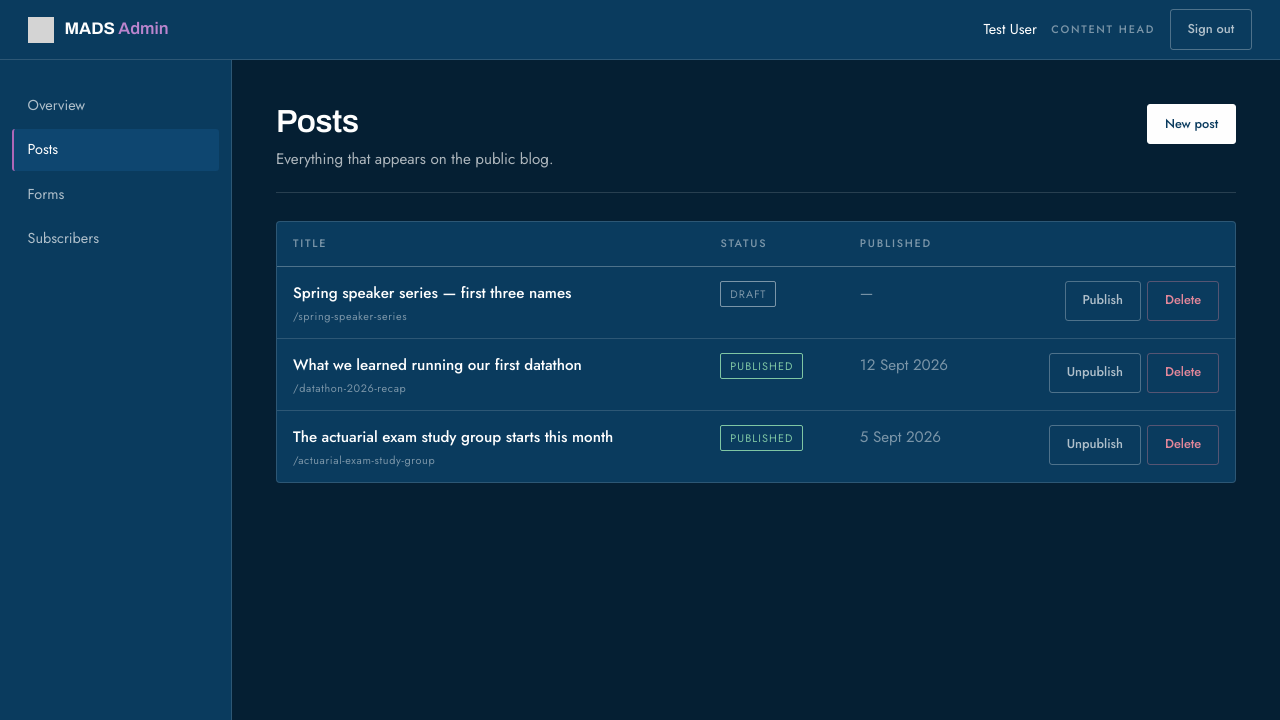
Posts › lets a publisher take a post down
Check: the text "published" next to "12 Sept 2026" is shown, box [730,358,794,374]
Click the button "Unpublish" in the row of "datathon-2026-recap": (1095, 373) [1049,353,1141,393]
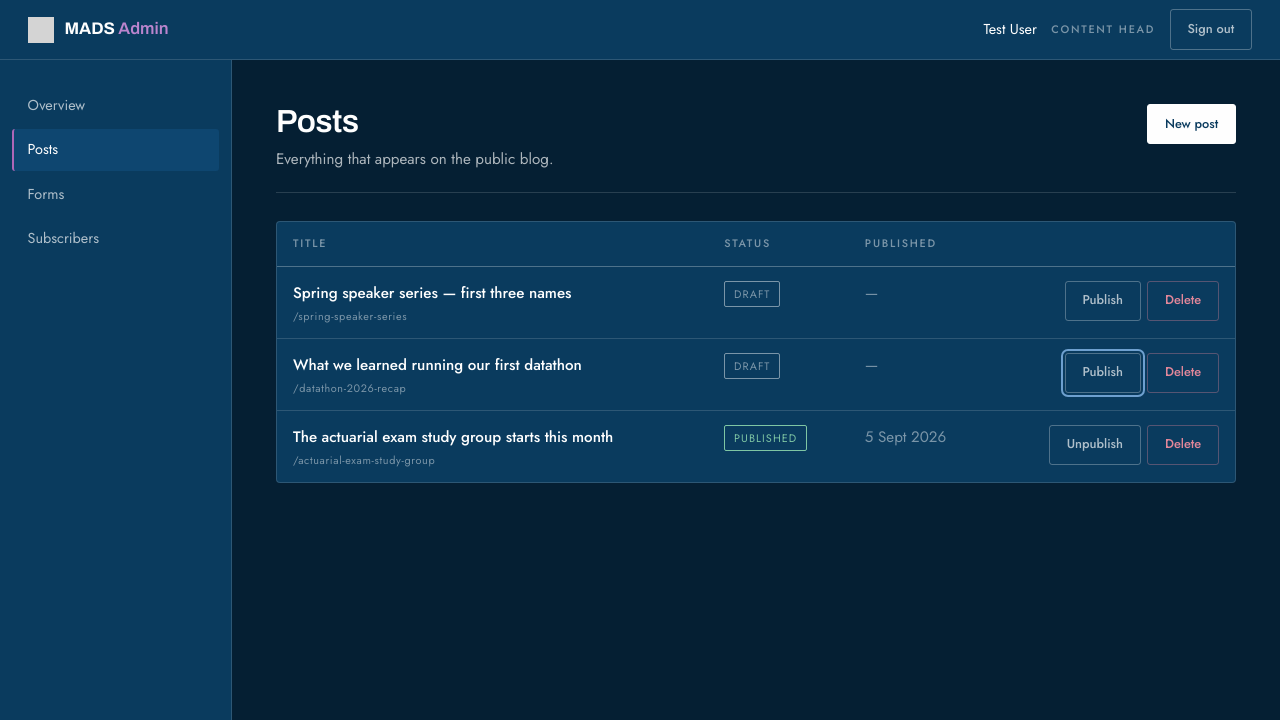
Check: the 2nd text "draft" is shown, box [724,354,780,379]
